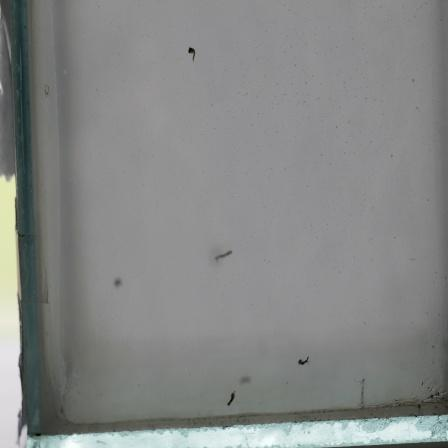Jentik-Nyamuk: (222, 389, 237, 408), (296, 353, 314, 368), (185, 44, 199, 62)
